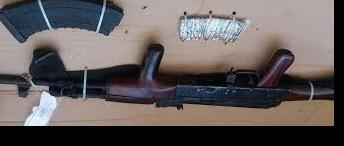larga: (0, 44, 334, 110)
